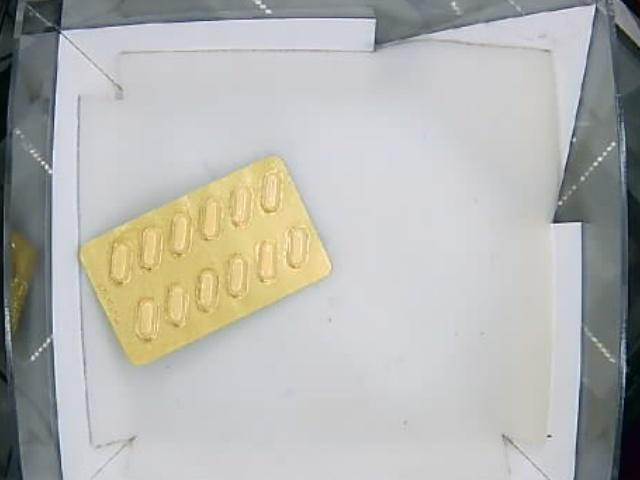Medicine: (76, 158, 329, 365)
